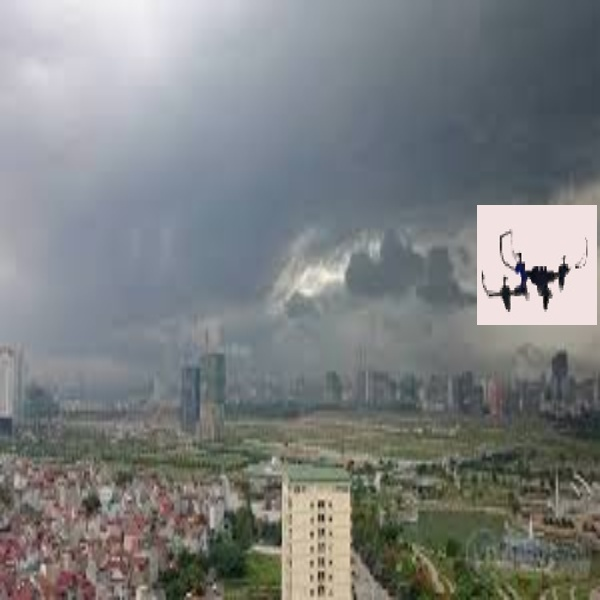drone: (483, 219, 589, 318)
